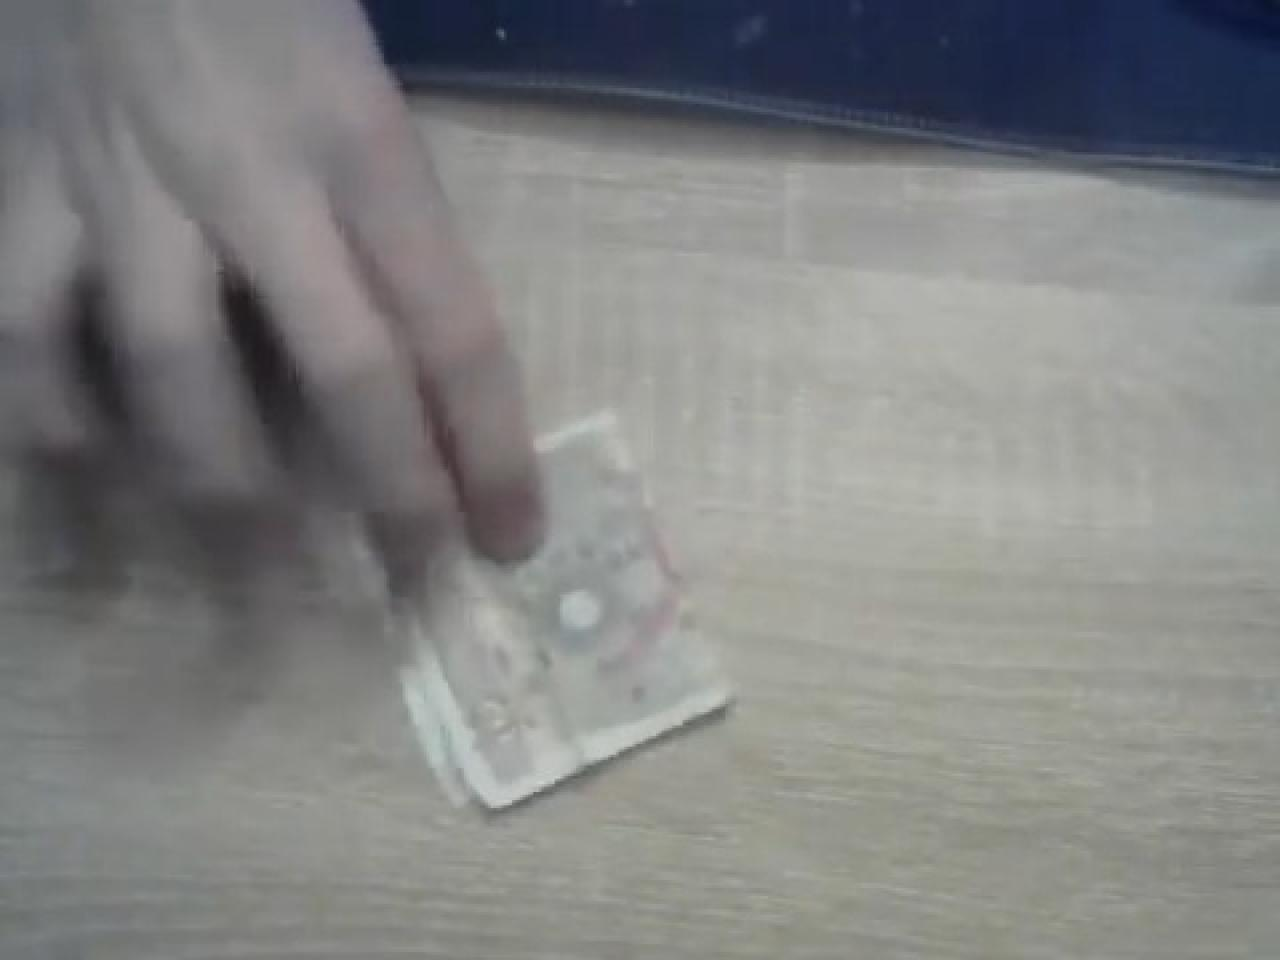10leva: (381, 402, 739, 813)
